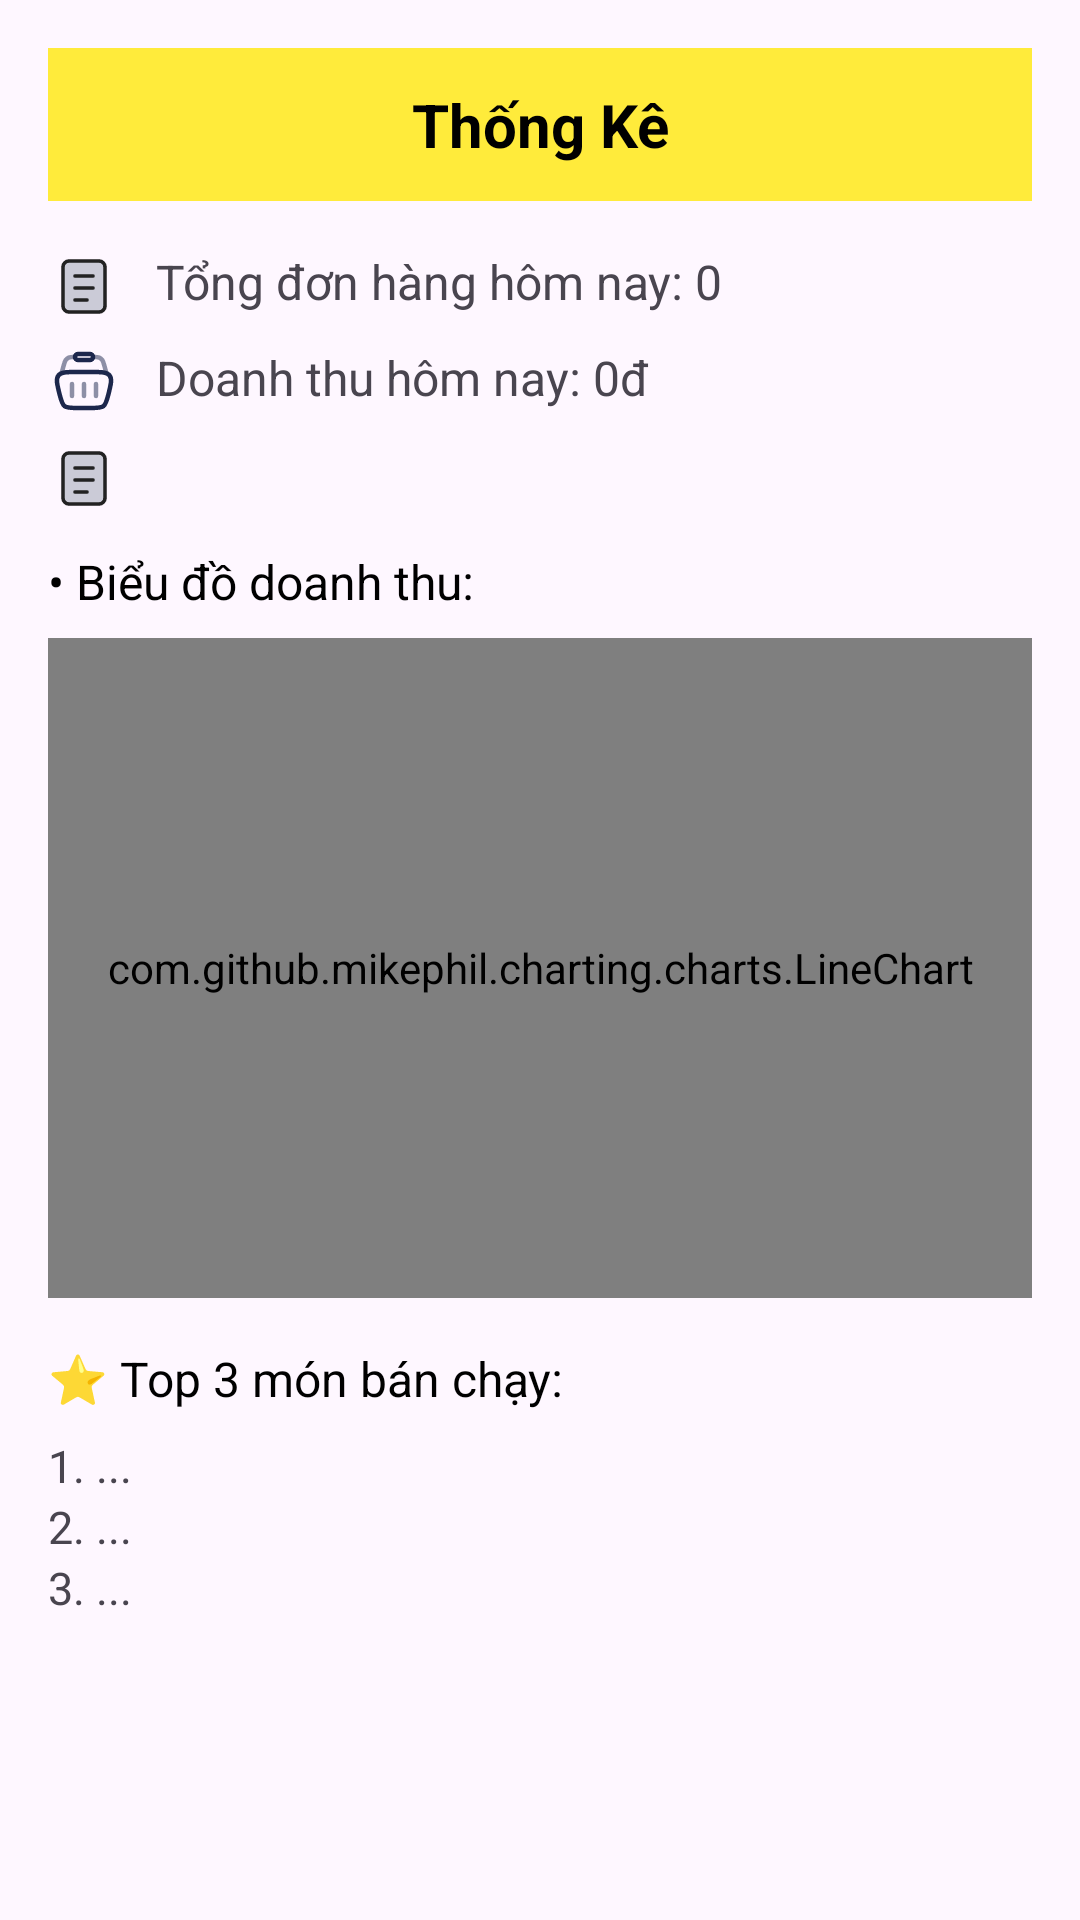

Named icons in this screenshot (1080px×1920px) and their centers, [x,y]:
cart: [84,381]
order: [84,286], [84,478]
